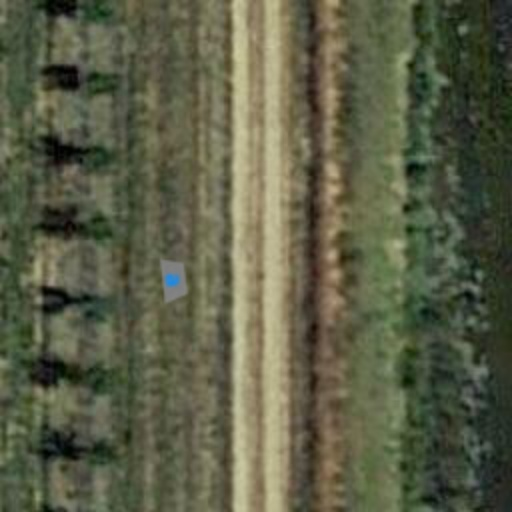trapezoid: (148, 254, 200, 306)
